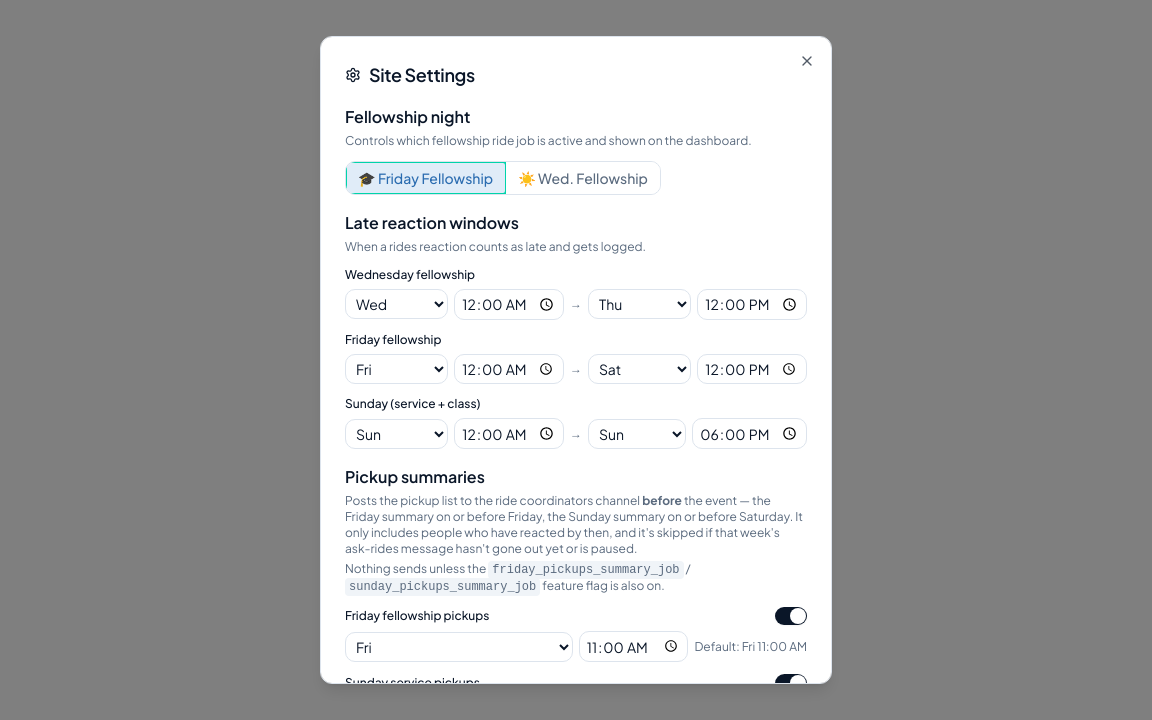
SiteSettingsDialog - Pickup summaries › shows the server error message on a validation failure
Expected: the text "Friday fellowship pickups" is shown, [345,608,490,624]
Click the switch named "Friday fellowship pickups enabled". click: {"x": 791, "y": 616}
box: [775,607,807,626]
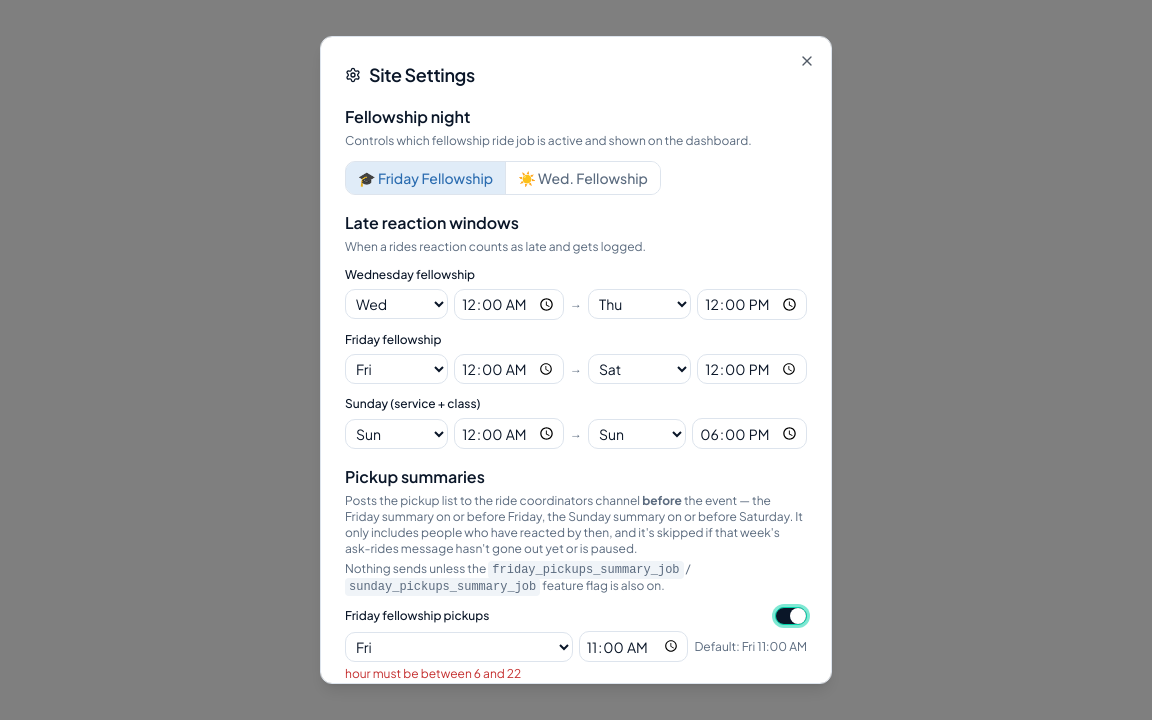
Expected: the text "hour must be between 6 and 22" is shown, [345,666,521,681]
